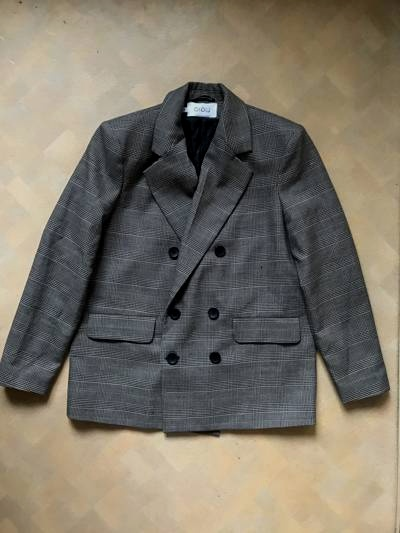Blazer: (0, 69, 400, 443)
